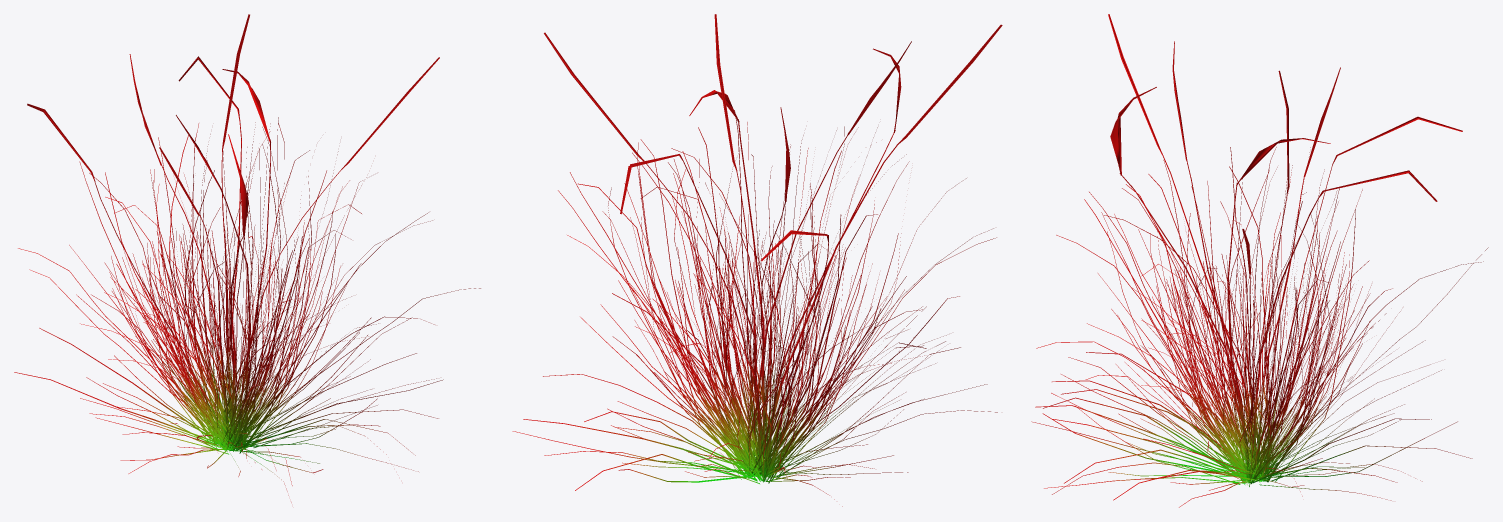
The model's file is Xeric Grass_LOD3_Var6_xjfgdhaqx.fbx.
3 renders of one model, left to right at view 1: azimuth 30°, elevation 25°; view 2: azimuth 150°, elevation 25°; view 3: azimuth 270°, elevation 25°, orthographic. The views are drawn at different scales.
Parts seen in each view (by area): view 1: _34oy_Var6_LOD3; view 2: _34oy_Var6_LOD3; view 3: _34oy_Var6_LOD3.
Boxes of the visible parts, box(x1,y1,x2,y2) form: _34oy_Var6_LOD3: box(14, 14, 480, 502); _34oy_Var6_LOD3: box(512, 14, 1002, 506); _34oy_Var6_LOD3: box(1031, 14, 1488, 507).
Size of the model in its own units: 353 by 357 by 351.
